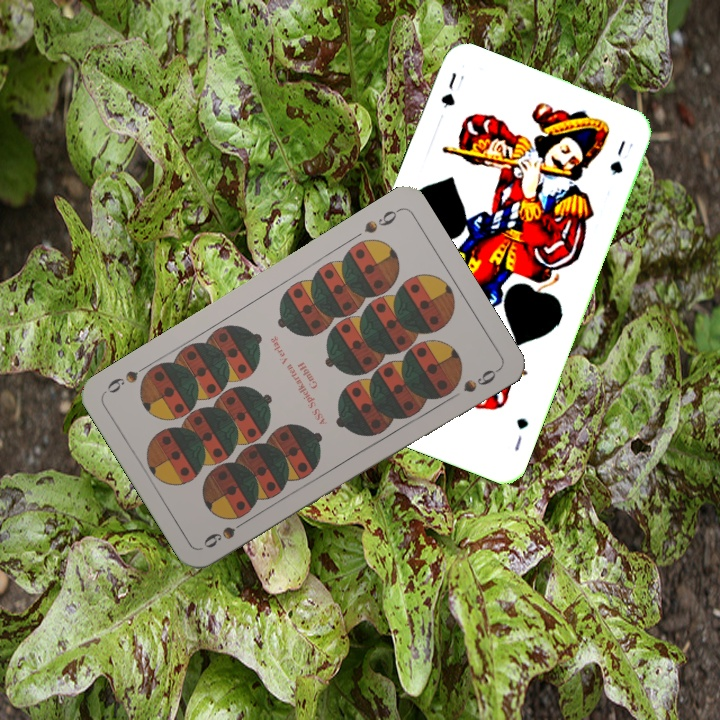GU: (436, 68, 459, 111), (510, 413, 532, 454)
S9: (199, 514, 253, 551), (360, 204, 403, 236)
